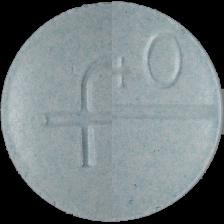0228-2540: (0, 0, 224, 224)
